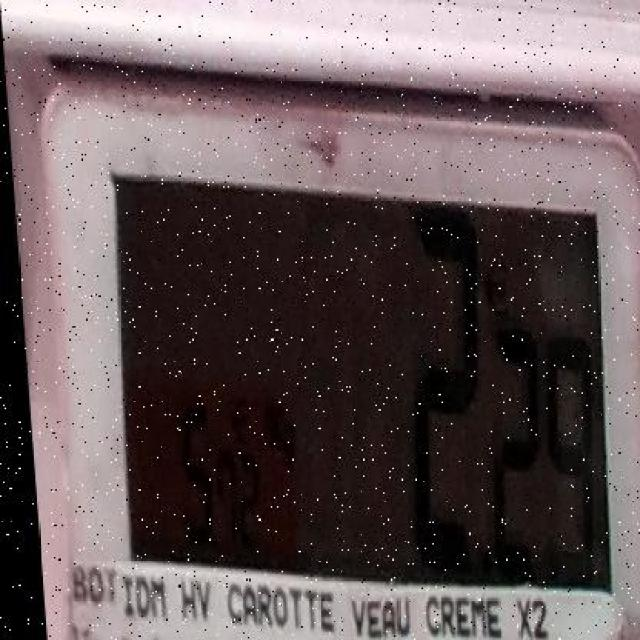display: (114, 174, 611, 594)
frame: (529, 597, 554, 640)
gauge: (1, 0, 640, 640)
